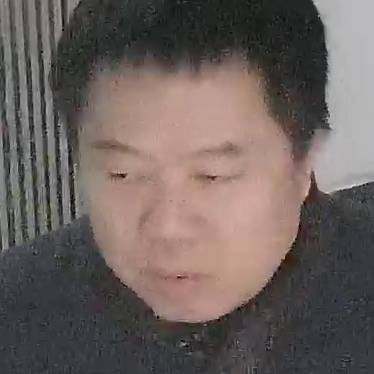caibo: (57, 35, 313, 325)
